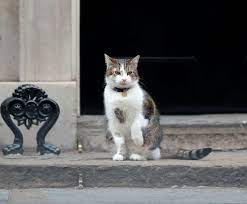cat: (89, 42, 210, 166)
